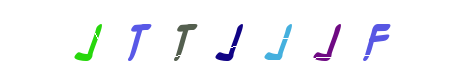F: (240, 0, 320, 80)
J: (49, 0, 129, 80), (195, 0, 275, 80), (233, 0, 313, 80), (238, 0, 318, 80)
T: (143, 0, 223, 80), (186, 0, 266, 80)
